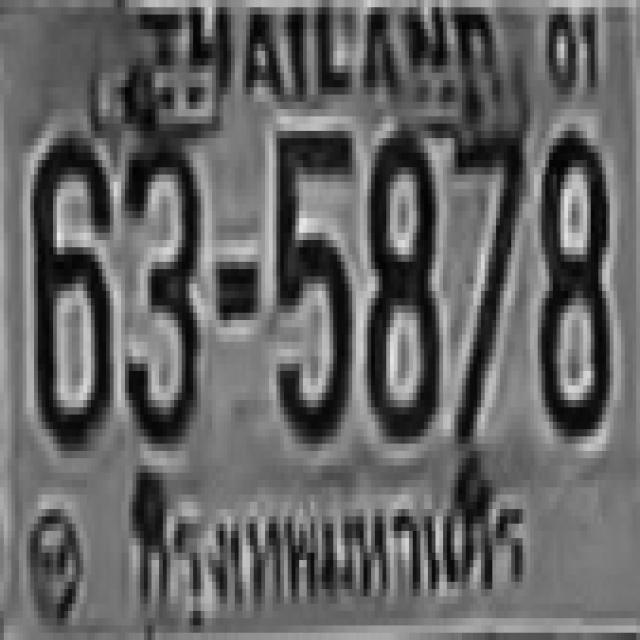3: (123, 131, 199, 436)
5: (273, 124, 348, 436)
6: (30, 127, 106, 440)
7: (450, 120, 522, 440)
8: (364, 124, 436, 436), (538, 124, 606, 429)
Bangkok: (130, 483, 536, 614)
